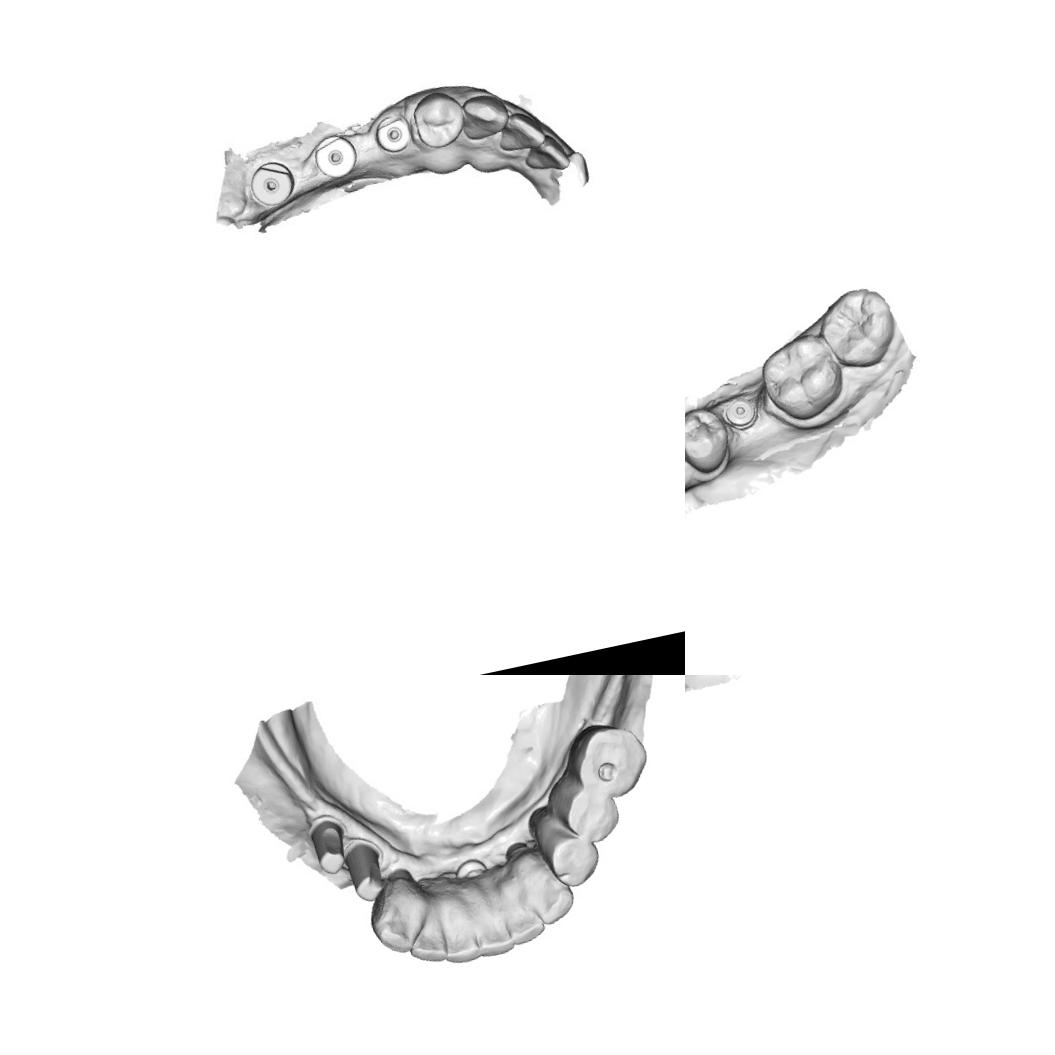abutment: (299, 806, 354, 881), (338, 838, 392, 906)
canine: (525, 862, 581, 930), (366, 894, 424, 958), (456, 88, 514, 144)
implant: (242, 154, 302, 213), (312, 130, 364, 190), (371, 110, 417, 157), (718, 392, 762, 434)
incisor: (500, 888, 550, 952), (494, 106, 550, 156), (518, 132, 574, 180), (438, 913, 486, 966), (470, 910, 516, 960), (405, 921, 451, 969)
molar: (754, 328, 852, 427), (812, 281, 903, 376), (568, 720, 656, 802)
premolar: (557, 776, 629, 849), (542, 825, 608, 891), (407, 83, 470, 152), (685, 399, 738, 480)
